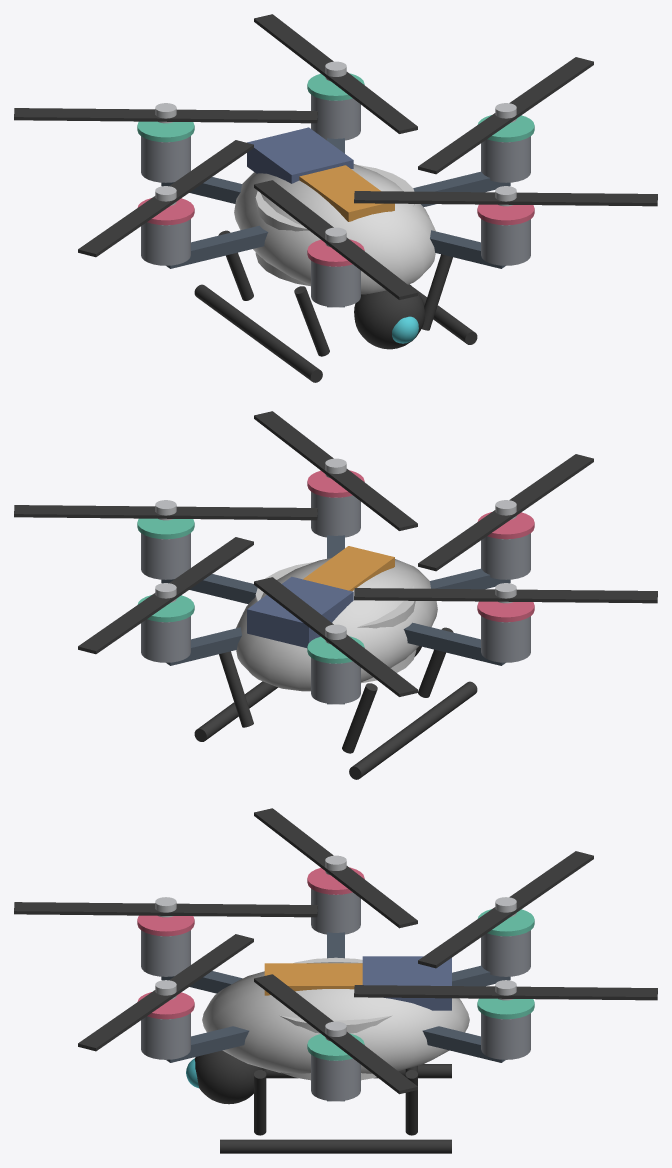
File: drone_hexa.glb
3 views of the same model, one above another, from view 1: azimuth 30°, elevation 25°; view 2: azimuth 150°, elevation 25°; view 3: azimuth 270°, elevation 25° (orthographic).
Size of the model in its own units: 0.7499 by 0.213 by 0.7215.
